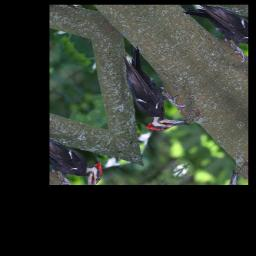Woodpecker: (93, 43, 203, 145)
